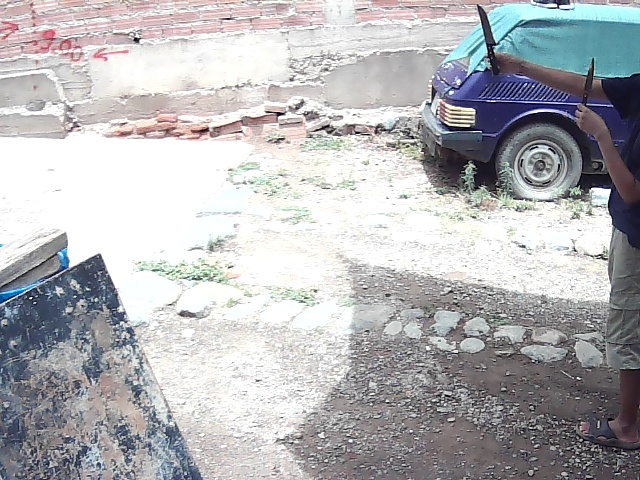cuchillo: (471, 2, 508, 78)
